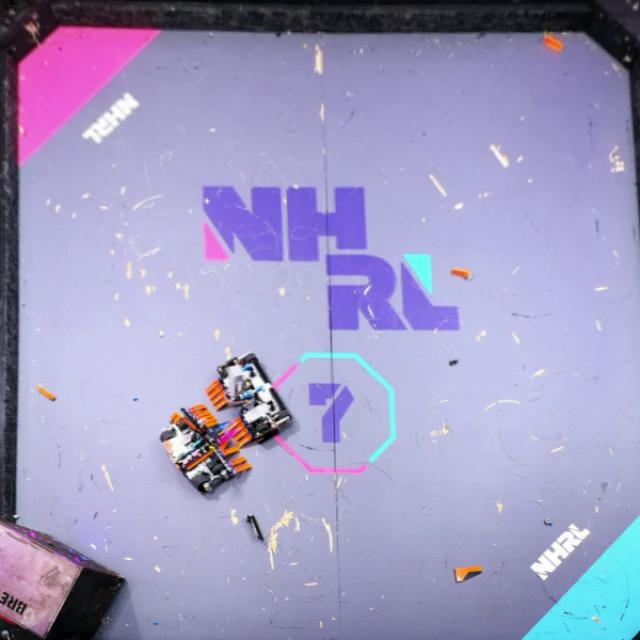housebot: (0, 518, 127, 640)
robot: (159, 403, 254, 496), (205, 351, 293, 448)
